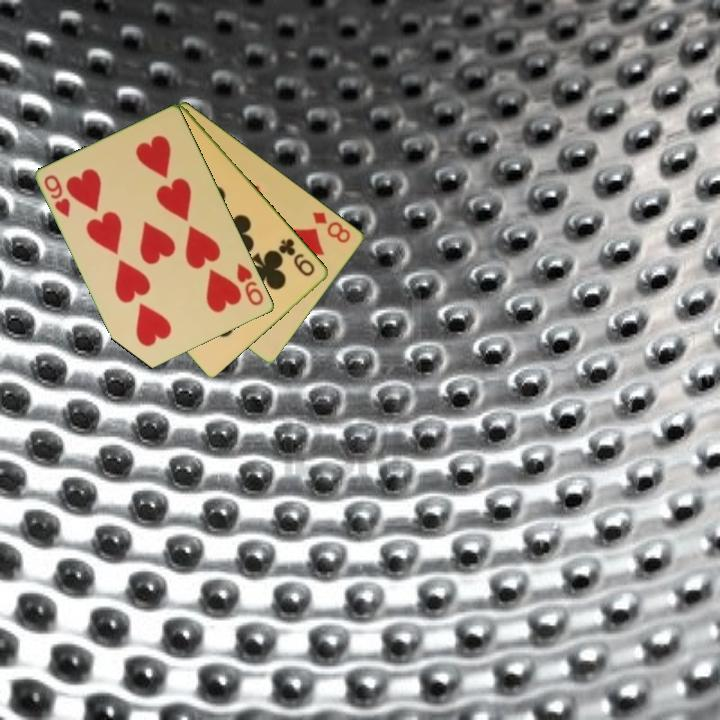8d: (309, 208, 354, 246)
9c: (275, 234, 318, 279)
9h: (233, 259, 267, 309), (41, 171, 74, 220)
